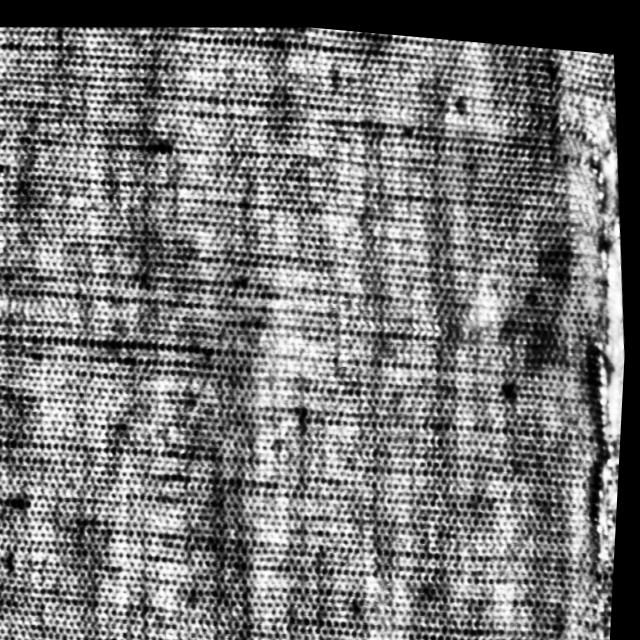Stitch: (549, 77, 638, 600)
